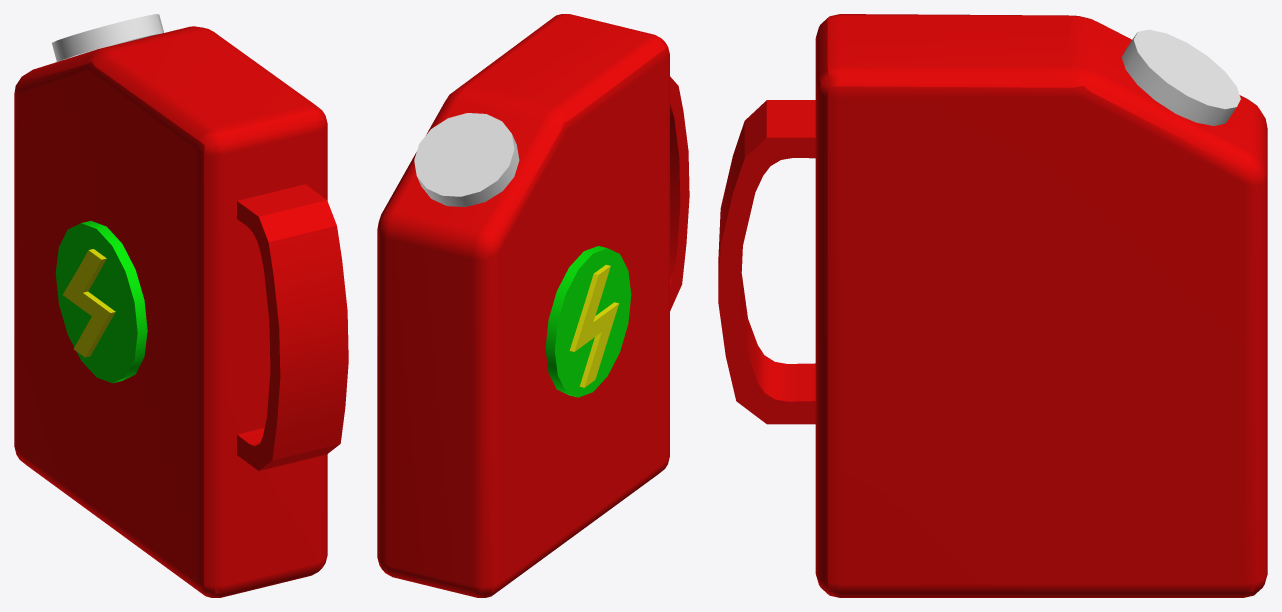
Rendered from HP_Heel.fbx.
The picture shows the model from 3 angles, left to right: view 1: azimuth 30°, elevation 25°; view 2: azimuth 150°, elevation 25°; view 3: azimuth 270°, elevation 25°; orthographic projection. The views are drawn at different scales.
Parts seen in each view (by area): view 1: HP_heel; view 2: HP_heel; view 3: HP_heel.
Part boxes in pixels (x1,y1,x2,y2): HP_heel: (14,14,348,597); HP_heel: (377,14,689,597); HP_heel: (718,14,1267,597).
Size of the model in its own units: 0.8337 by 2.57 by 2.42.
